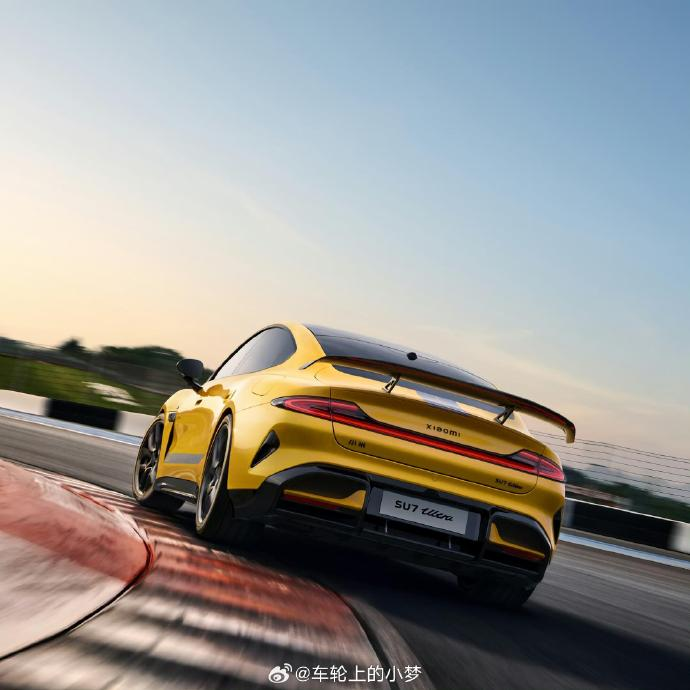su7: (131, 318, 571, 604)
